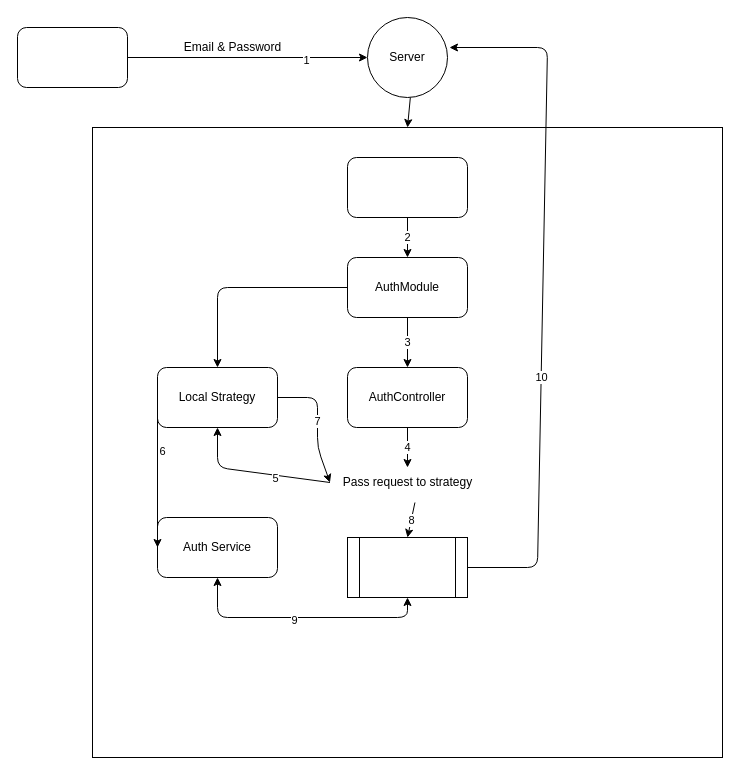
Some shapes in this 740 by 775 pixel diagram are drawn without their labels. The centre of each missing label's shape, as x and y in pixels:
"Client" belongs at [72,57].
"Login Method" belongs at [407,567].
"Main.ts" belongs at [407,187].
